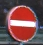No entry: (6, 6, 38, 40)
